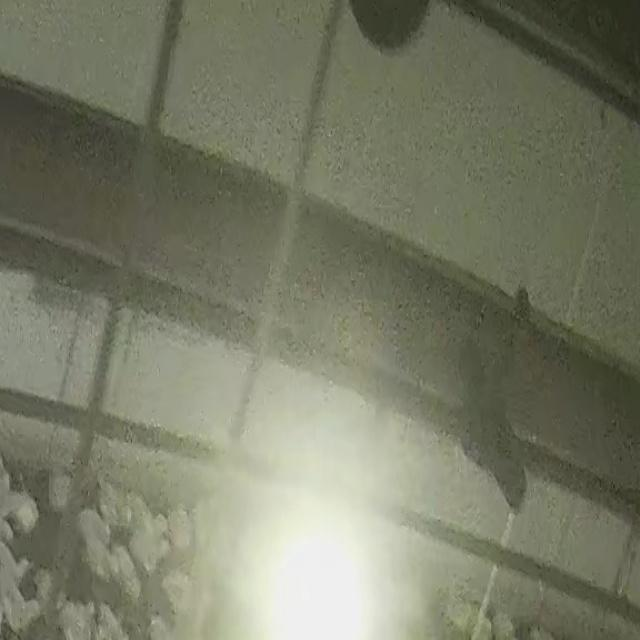chicken: (109, 546, 142, 598), (78, 507, 111, 553), (131, 514, 156, 570), (12, 488, 42, 531), (60, 597, 88, 638), (95, 605, 126, 640), (165, 507, 191, 547)
